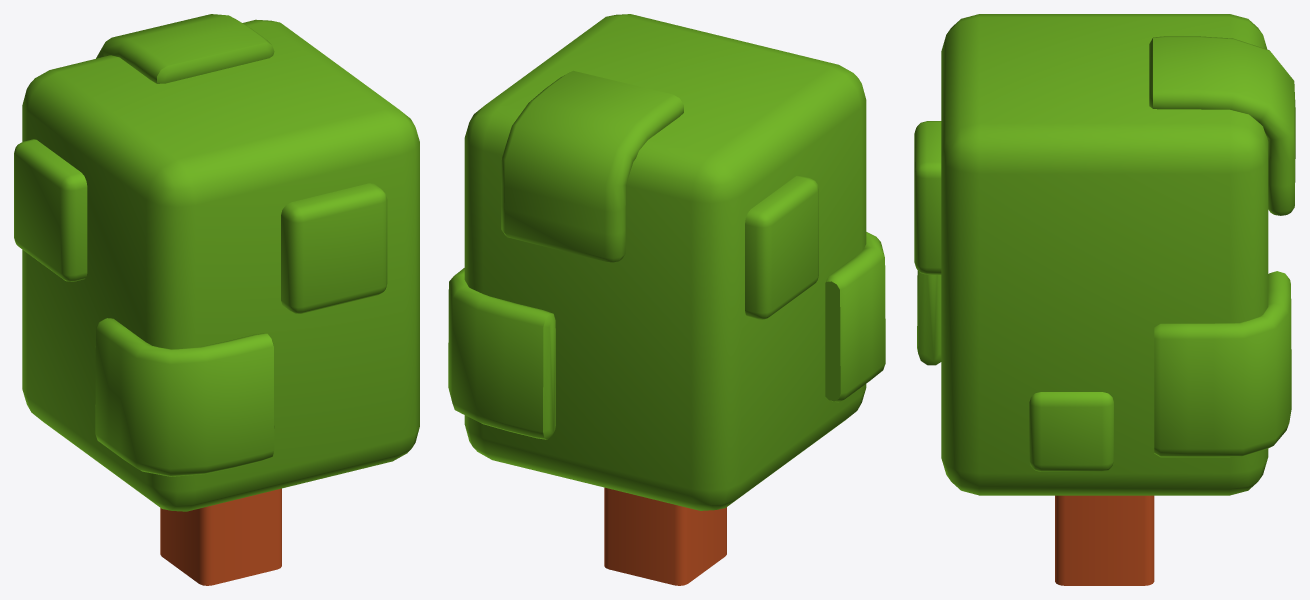
The model's file is Tree.fbx.
3 views of the same model, side by side, from view 1: azimuth 30°, elevation 25°; view 2: azimuth 150°, elevation 25°; view 3: azimuth 270°, elevation 25° (orthographic). The views are drawn at different scales.
Parts seen in each view (by area): view 1: Cube.028, Cube.029; view 2: Cube.028, Cube.029; view 3: Cube.028, Cube.029.
Part boxes in pixels (box(x1,y1,x2,y2)): Cube.028: box(14, 14, 419, 511); Cube.029: box(160, 488, 281, 585); Cube.028: box(448, 14, 885, 510); Cube.029: box(604, 487, 726, 585); Cube.028: box(914, 14, 1295, 495); Cube.029: box(1055, 495, 1154, 585).
Size of the model in its own units: 478 by 490 by 726.
